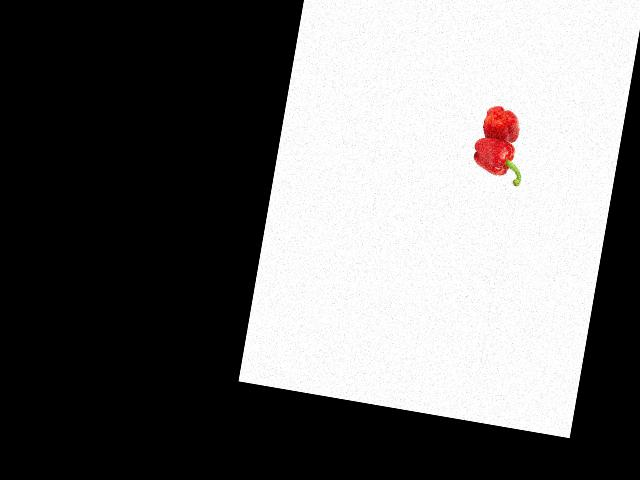bell_pepper: (479, 103, 525, 144)
